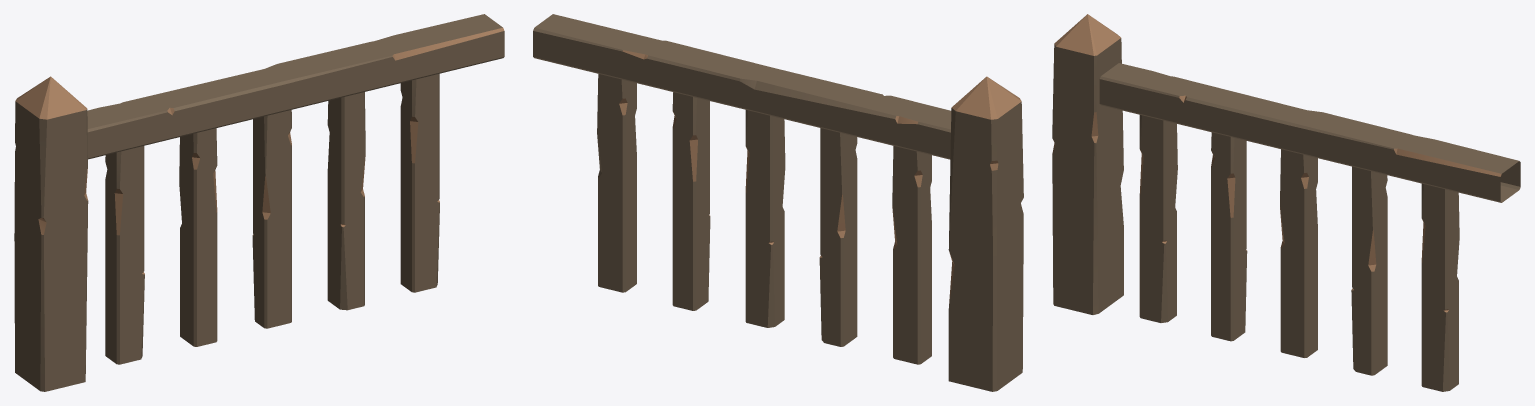
File: BG_woodfence_02.fbx
3 renders of one model, left to right at view 1: azimuth 30°, elevation 25°; view 2: azimuth 150°, elevation 25°; view 3: azimuth 330°, elevation 25°, orthographic. The views are drawn at different scales.
Parts seen in each view (by area): view 1: BG_woodfence_02; view 2: BG_woodfence_02; view 3: BG_woodfence_02.
Boxes of the visible parts, x1=… form: BG_woodfence_02: x1=14, y1=14, x2=504, y2=391; BG_woodfence_02: x1=533, y1=14, x2=1023, y2=391; BG_woodfence_02: x1=1052, y1=14, x2=1520, y2=391.
Bounding box in the file's own units: 21.07 × 12.94 × 2.3.
